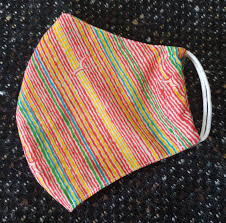mask: (6, 6, 218, 211)
